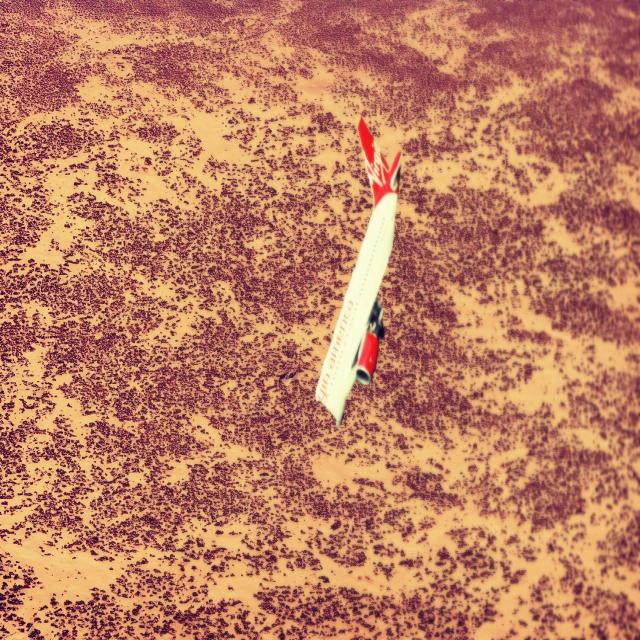airplane: (315, 115, 402, 427)
